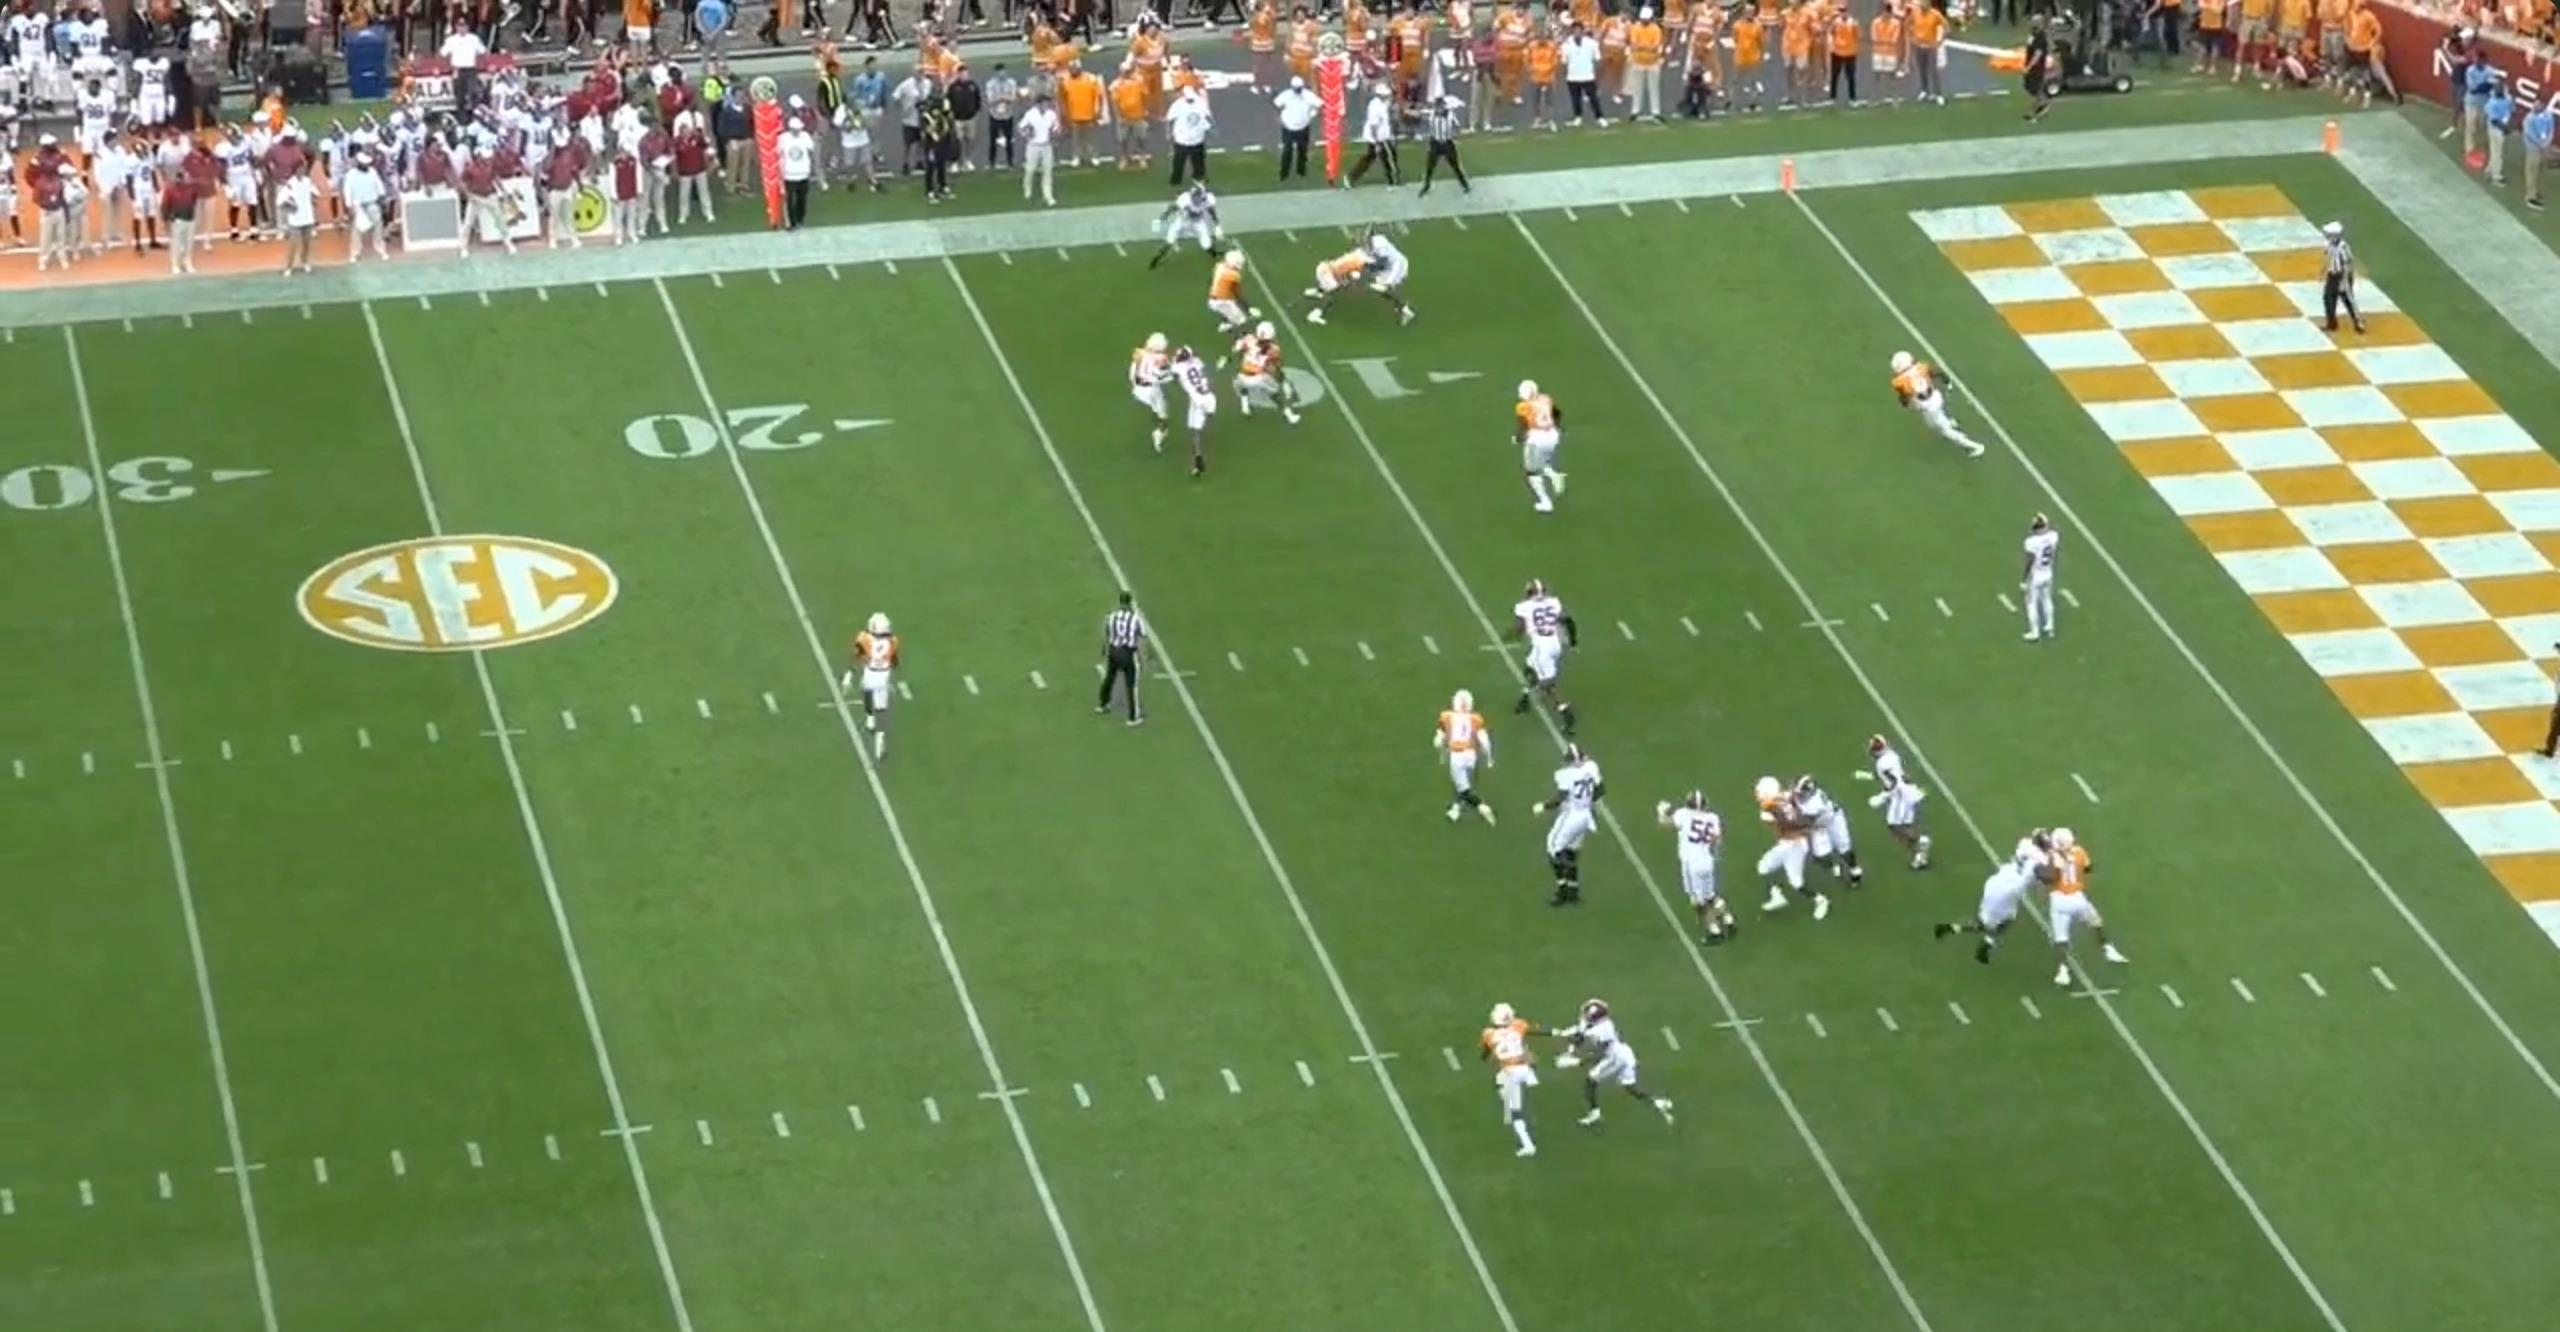defense: (2044, 822, 2141, 987), (1743, 778, 1833, 931), (1481, 1000, 1554, 1170), (1887, 342, 1992, 460), (836, 610, 905, 769), (1424, 688, 1496, 835), (1510, 374, 1572, 520), (1228, 322, 1302, 432), (1304, 238, 1389, 328), (1120, 330, 1182, 453), (1205, 244, 1260, 341)
oline: (1933, 831, 2065, 973), (1537, 748, 1619, 918), (1648, 784, 1734, 945), (1510, 578, 1586, 731), (1773, 777, 1864, 895)
qb: (2008, 512, 2074, 651)
ref: (1089, 599, 1153, 739), (1408, 84, 1467, 196), (2316, 220, 2368, 342)
skill: (1566, 998, 1689, 1138), (1854, 730, 1940, 872), (1159, 338, 1217, 480), (1139, 181, 1216, 276), (1366, 227, 1421, 330)
